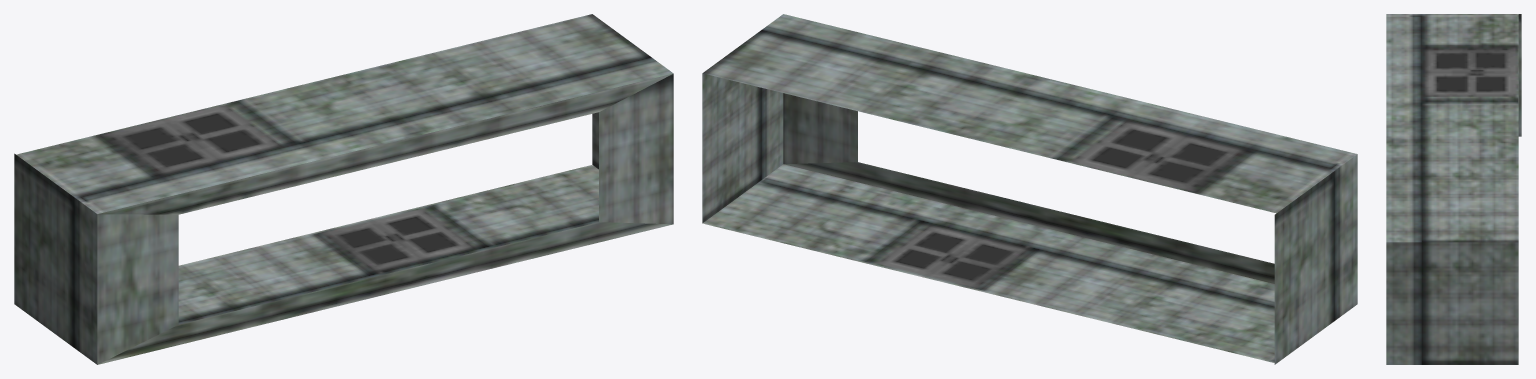
Rendered from building8x2x2_wtf.obj.
3 views of the same model, side by side, from view 1: azimuth 30°, elevation 25°; view 2: azimuth 150°, elevation 25°; view 3: azimuth 270°, elevation 25° (orthographic). The views are drawn at different scales.
Parts seen in each view (by area): view 1: group7, group5, group4, group8; view 2: group7, group4, group5, group8, group6; view 3: group7, group6, group8.
Part boxes in pixels (<box>): group7: <box>16,14,673,213</box>; group5: <box>97,73,673,364</box>; group4: <box>178,165,598,324</box>; group8: <box>14,153,97,364</box>; group7: <box>703,14,1357,213</box>; group4: <box>702,164,1274,362</box>; group5: <box>783,93,1274,283</box>; group8: <box>1274,154,1357,364</box>; group6: <box>702,73,783,223</box>; group7: <box>1386,14,1518,242</box>; group6: <box>1386,242,1518,364</box>; group8: <box>1518,14,1521,136</box>.
Size of the model in its own units: 660 by 165 by 165.
